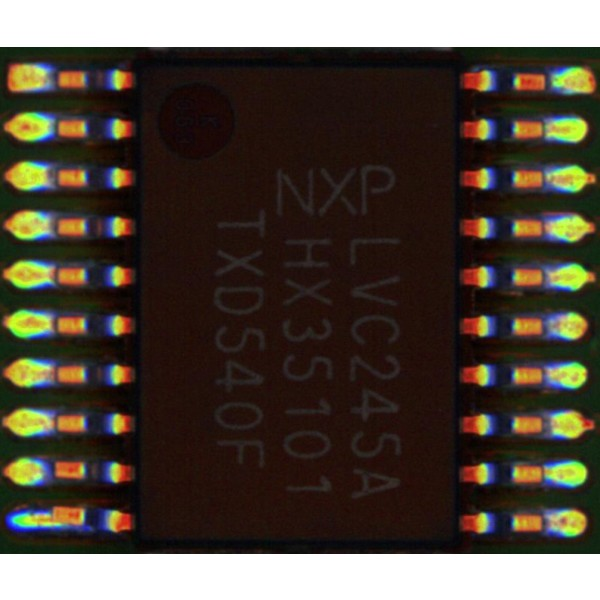Bad_podu: (42, 514, 64, 526)
